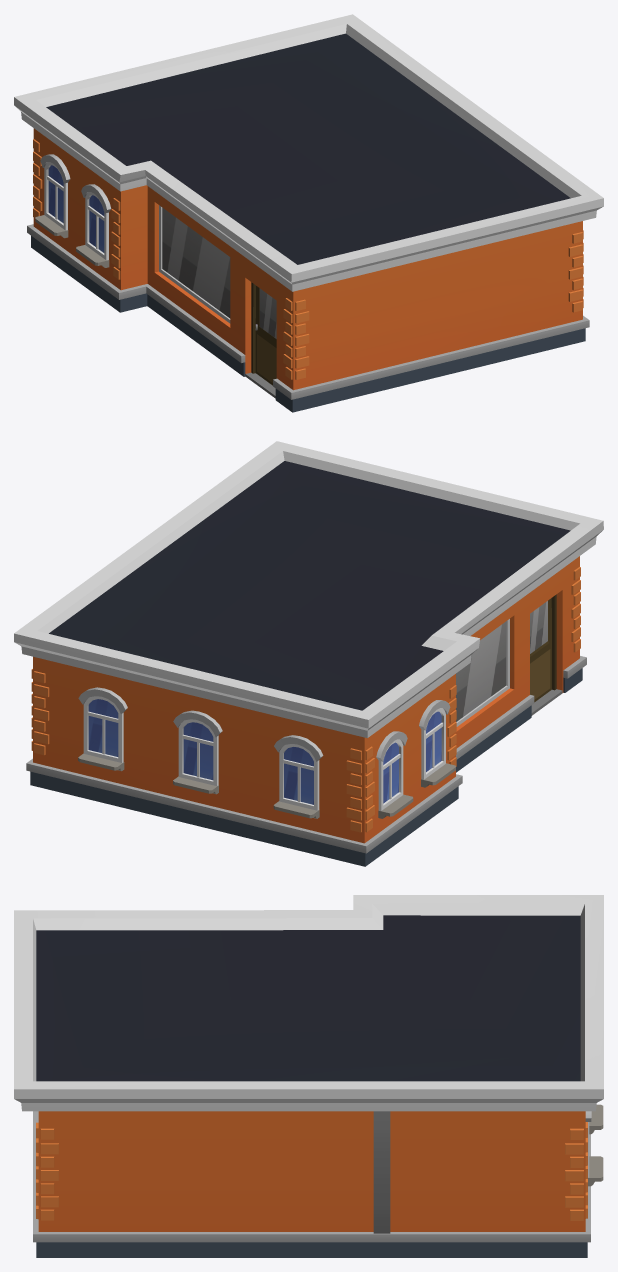
File: Building_1_1_F.fbx
3 renders of one model, top to bottom at view 1: azimuth 30°, elevation 25°; view 2: azimuth 150°, elevation 25°; view 3: azimuth 270°, elevation 25°, orthographic. The views are drawn at different scales.
Parts seen in each view (by area): view 1: Building_1_1_F; view 2: Building_1_1_F; view 3: Building_1_1_F.
Boxes of the visible parts, <box> form: Building_1_1_F: <box>14,14,603,412</box>; Building_1_1_F: <box>14,441,603,866</box>; Building_1_1_F: <box>14,895,603,1257</box>.
Bounding box in the file's own units: 822 × 341 × 1051.
